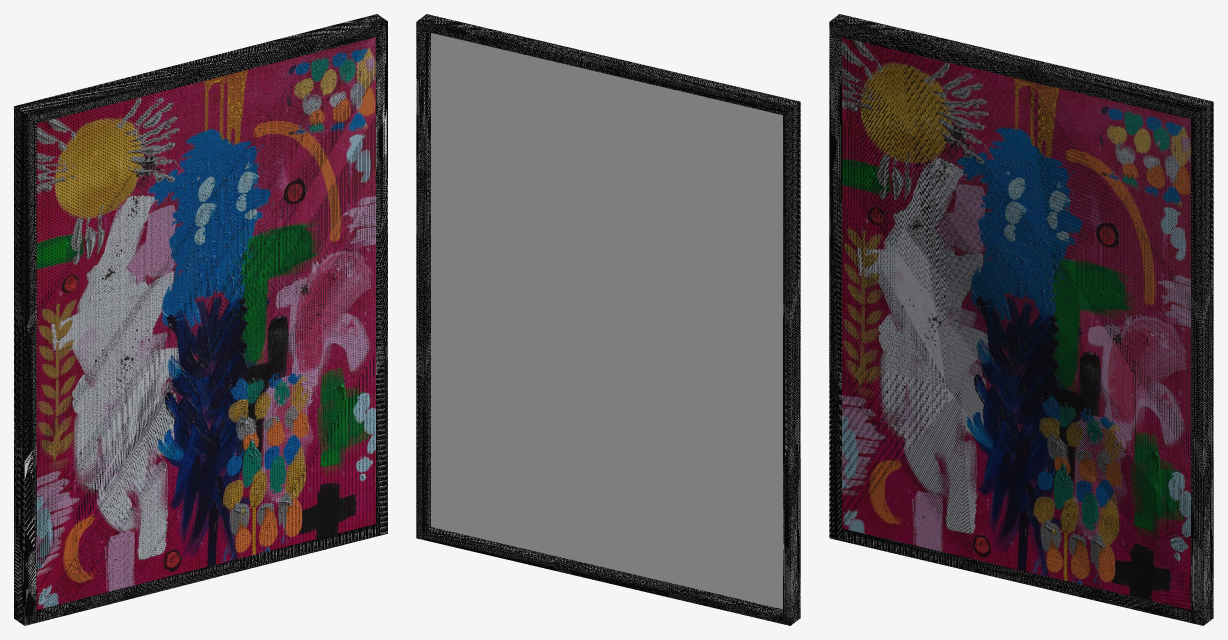
File: art9.dae
3 renders of one model, left to right at view 1: azimuth 30°, elevation 25°; view 2: azimuth 150°, elevation 25°; view 3: azimuth 330°, elevation 25°, orthographic.
Parts seen in each view (by area): view 1: group_1, group_3; view 2: group_4, group_3 (×2); view 3: group_1, group_3.
Part boxes in pixels (left/top/right/bottom): group_1: left=36, top=37, right=375, bottom=609; group_3: left=14, top=14, right=387, bottom=625; group_4: left=431, top=33, right=782, bottom=609; group_3 (×2): left=416, top=14, right=800, bottom=625; group_1: left=842, top=37, right=1190, bottom=609; group_3: left=829, top=14, right=1213, bottom=625.
Size of the model in its own units: 23.64 by 1.55 by 31.5.
Materials: 4 (1 with a texture image).
